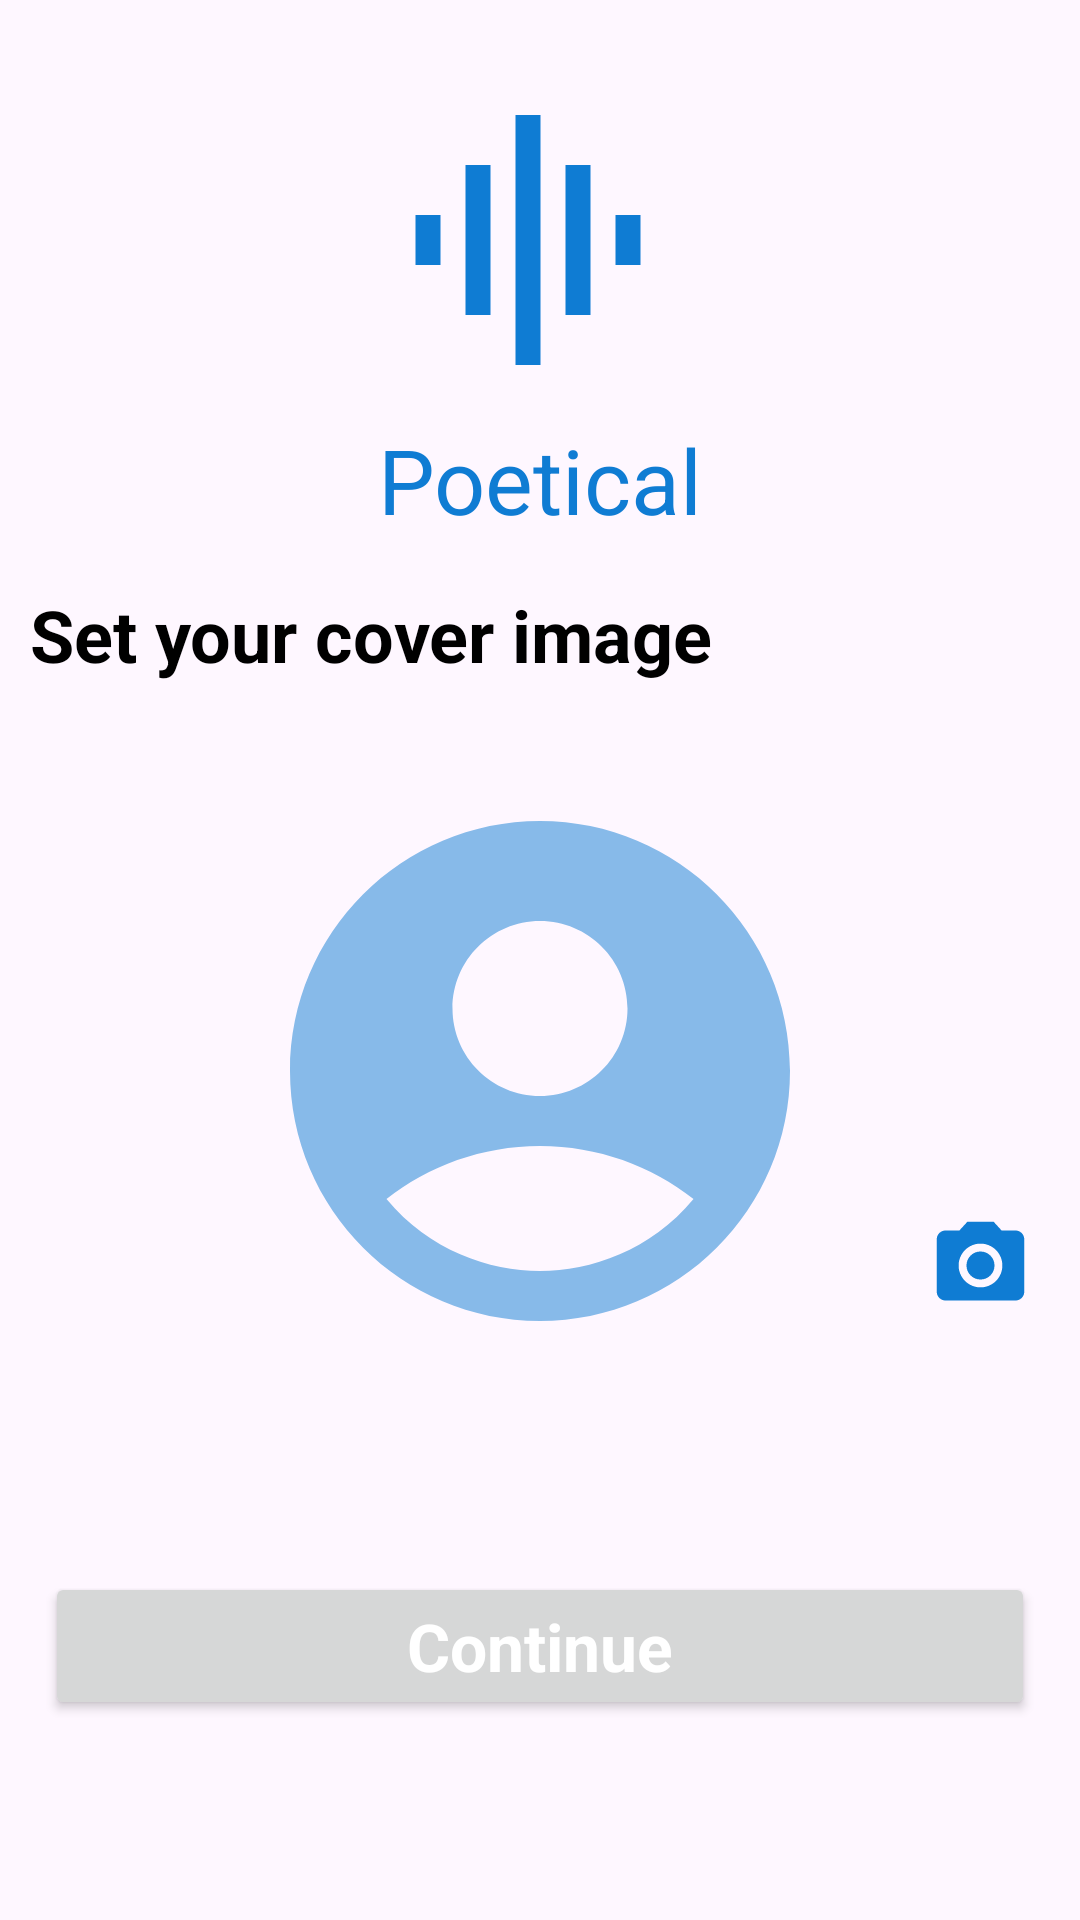

Where to tap for icons on this 1080 x 1920 app screen, as point (x, y):
camera: point (980, 1261)
wave: point (528, 240)
